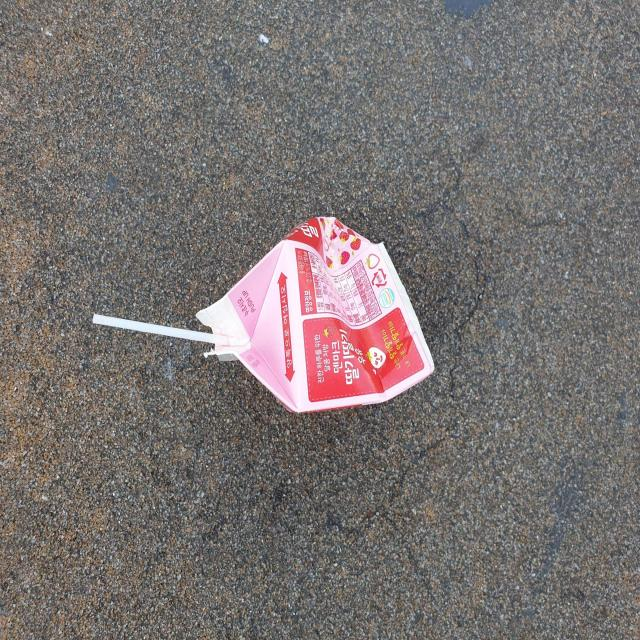paperpack: (196, 217, 435, 413)
